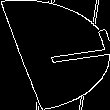L_W: (10, 34, 100, 76)
